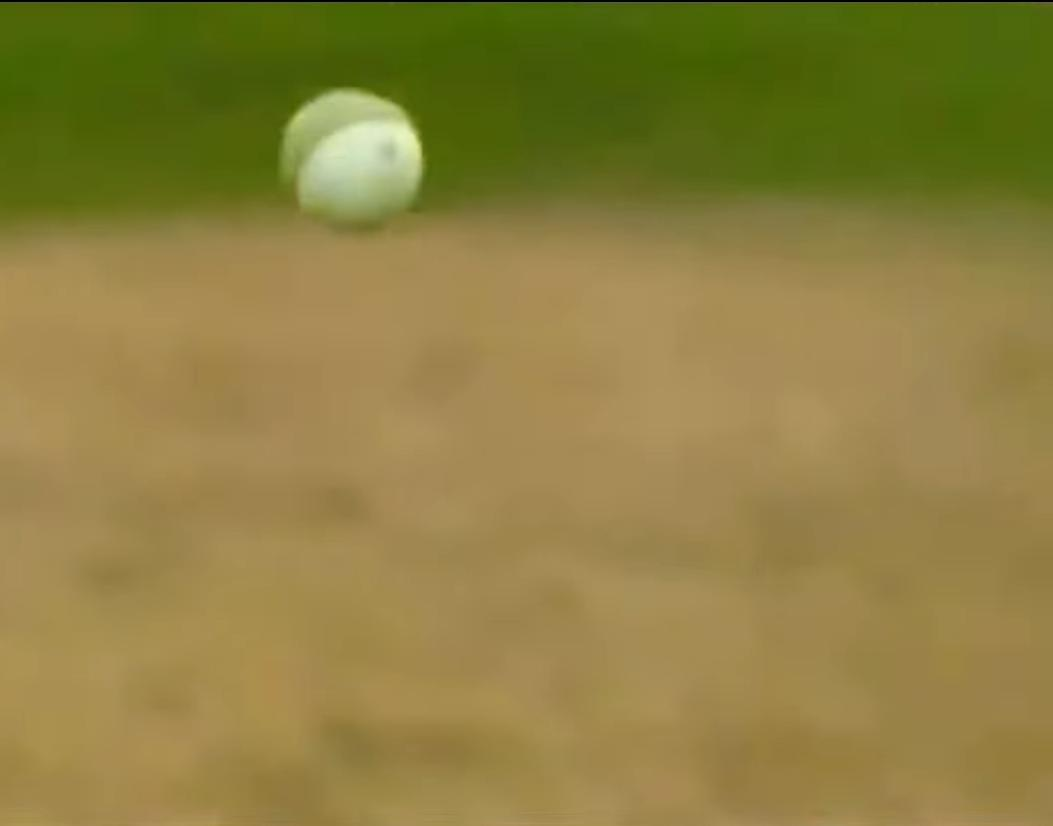Cricket-Ball: (263, 79, 434, 237)
